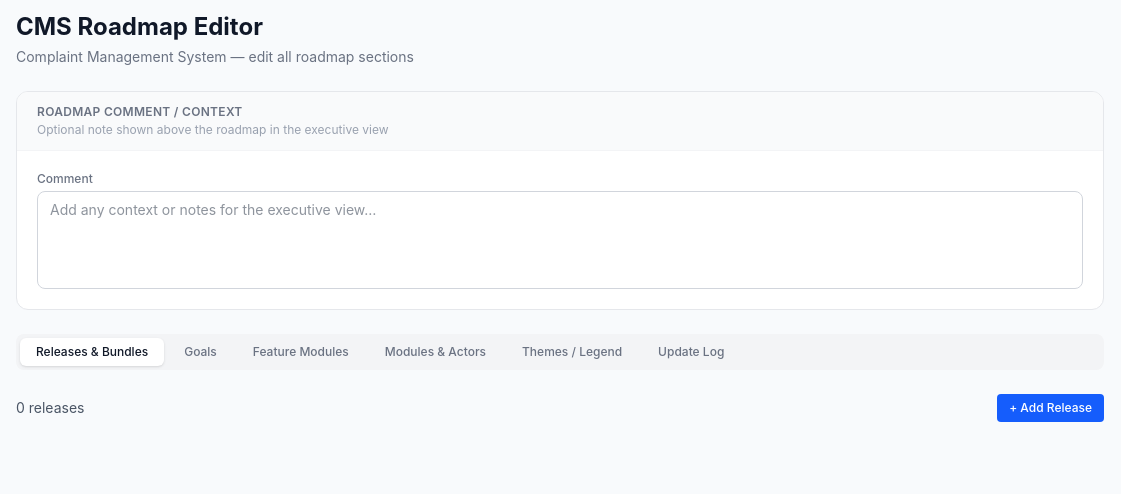
Test: ComplaintsRoadmapEditor (via RoadmapEditor with cms slug) › T-50.05: clicking Themes / Legend tab shows Themes content
Click the button "Themes / Legend" at (572, 352), box [506, 338, 638, 366]
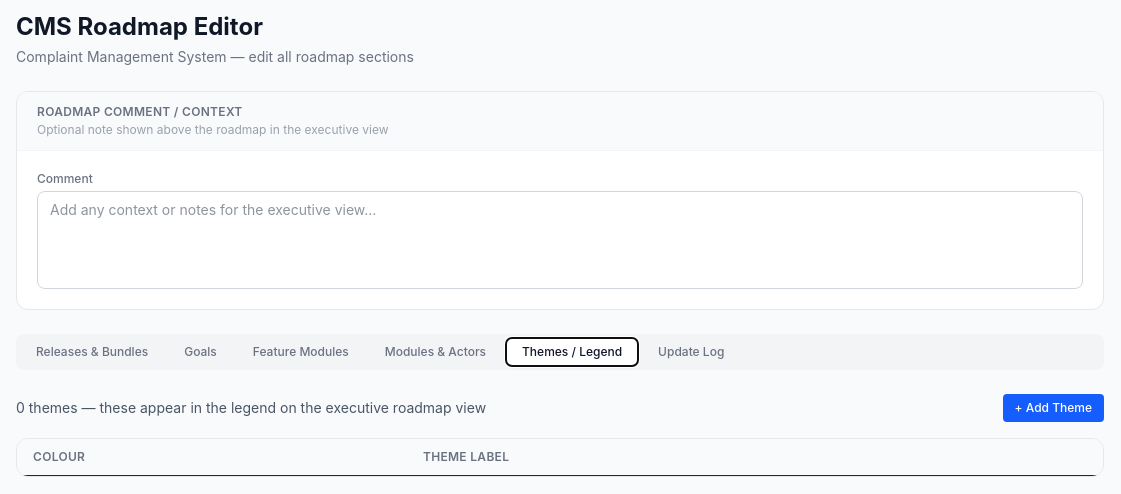
Expected: the button "+ Add Theme" is shown, [1002, 394, 1104, 422]
